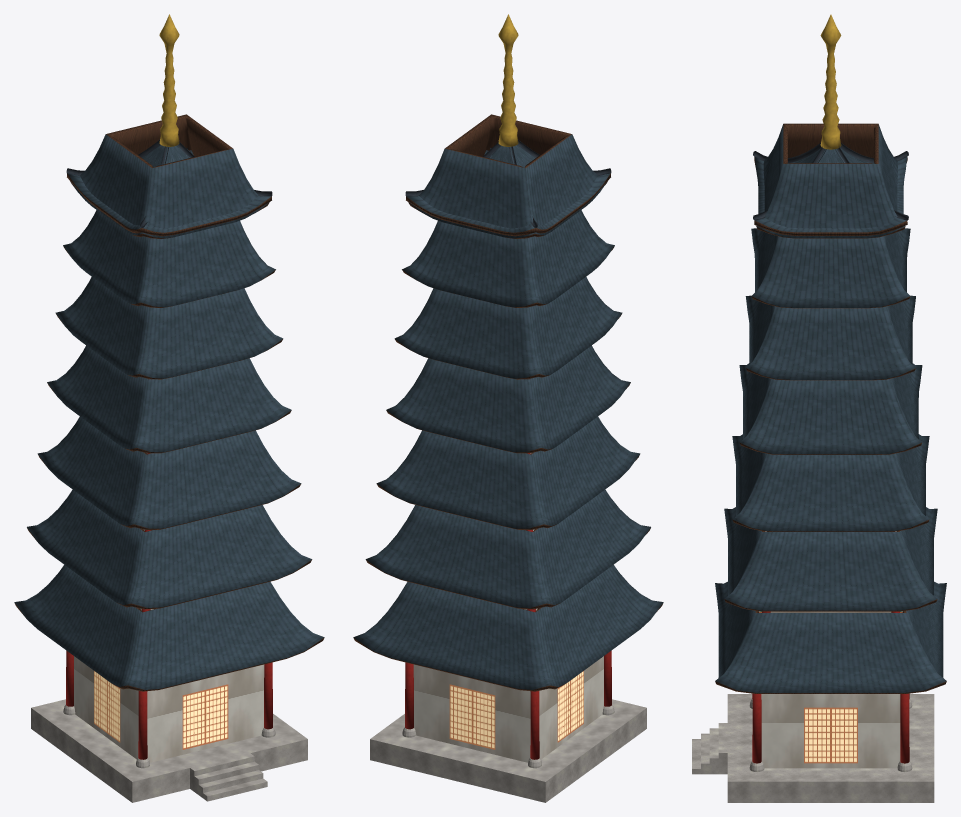
File: pagoda.glb
The picture shows the model from 3 angles, left to right: view 1: azimuth 30°, elevation 25°; view 2: azimuth 150°, elevation 25°; view 3: azimuth 270°, elevation 25°; orthographic projection. The views are drawn at different scales.
Parts seen in each view (by area): view 1: PagodaEave0, PagodaEave1, PagodaEave2, PagodaEave3, PagodaEave4, PagodaEave6, PagodaEave5, PagodaBase, PagodaWalls, PagodaWindows, PagodaCap, PagodaPillars (+2 smaller); view 2: PagodaEave0, PagodaEave1, PagodaEave2, PagodaEave3, PagodaEave4, PagodaEave6, PagodaEave5, PagodaBase, PagodaWalls, PagodaWindows, PagodaCap, PagodaPillars (+2 smaller); view 3: PagodaEave0, PagodaEave1, PagodaEave2, PagodaEave3, PagodaBase, PagodaEave4, PagodaEave6, PagodaEave5, PagodaWalls, PagodaWindows, PagodaCap, PagodaSpire (+2 smaller).
Part boxes in pixels (x1,y1,x2,y2): PagodaEave0: (14, 565, 324, 691); PagodaEave1: (27, 489, 312, 609); PagodaEave2: (37, 416, 301, 529); PagodaEave3: (47, 345, 291, 453); PagodaEave4: (55, 277, 283, 379); PagodaEave6: (70, 114, 269, 239); PagodaEave5: (63, 210, 275, 307); PagodaBase: (31, 699, 307, 802); PagodaWalls: (74, 453, 264, 762); PagodaWindows: (94, 671, 228, 749); PagodaCap: (67, 145, 271, 236); PagodaPillars: (66, 453, 272, 759); PagodaEave0: (353, 565, 663, 691); PagodaEave1: (365, 489, 650, 609); PagodaEave2: (376, 416, 640, 529); PagodaEave3: (386, 345, 630, 453); PagodaEave4: (394, 277, 622, 379); PagodaEave6: (408, 114, 607, 239); PagodaEave5: (402, 210, 614, 307); PagodaBase: (370, 699, 646, 802); PagodaWalls: (413, 453, 603, 762); PagodaWindows: (449, 671, 583, 749); PagodaCap: (406, 145, 610, 236); PagodaPillars: (405, 453, 611, 759); PagodaEave0: (715, 581, 946, 693); PagodaEave1: (724, 507, 937, 611); PagodaEave2: (732, 434, 929, 531); PagodaEave3: (739, 363, 922, 454); PagodaBase: (692, 694, 934, 802); PagodaEave4: (745, 295, 915, 380); PagodaEave6: (756, 123, 905, 238); PagodaEave5: (751, 228, 910, 308); PagodaWalls: (761, 611, 900, 768); PagodaWindows: (804, 707, 857, 763); PagodaCap: (754, 148, 907, 235); PagodaSpire: (820, 14, 841, 149).
Size of what is drawn, in the model's own units: 7.85 by 27.82 by 8.62.
Materials: 9 (9 with a texture image).
